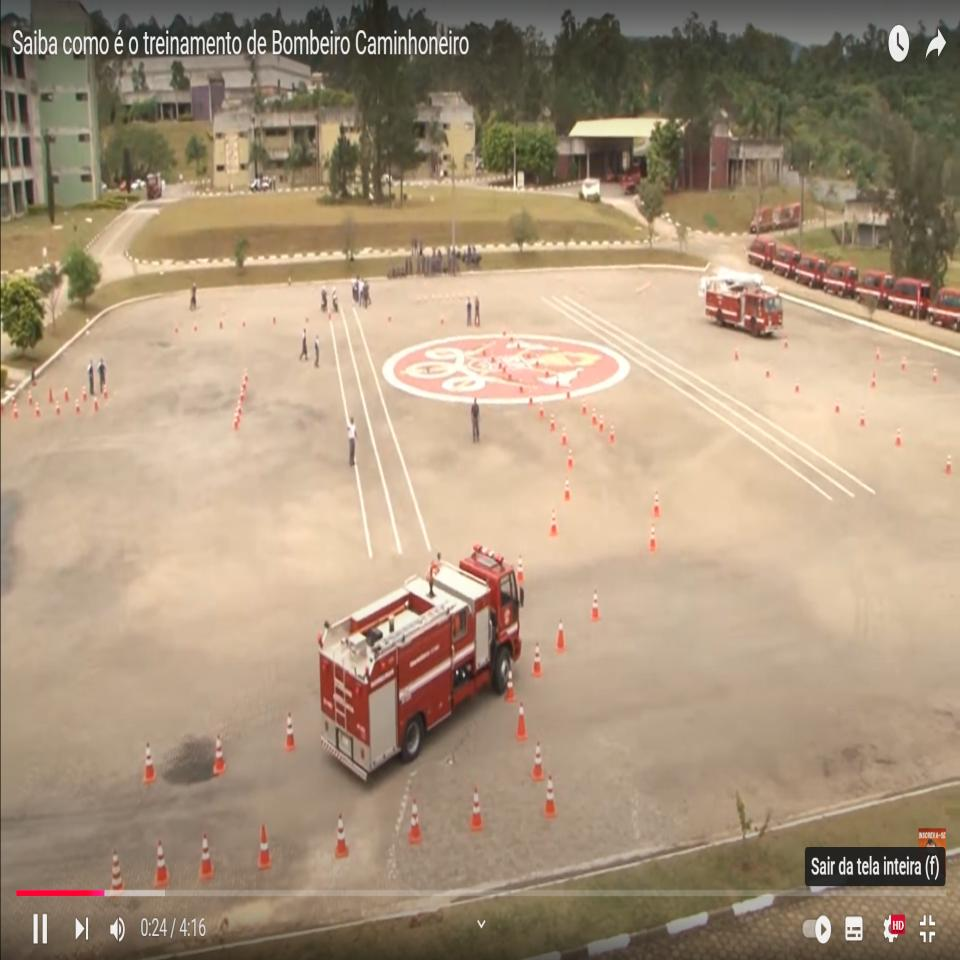viatura: (317, 542, 524, 782), (699, 267, 784, 338)
